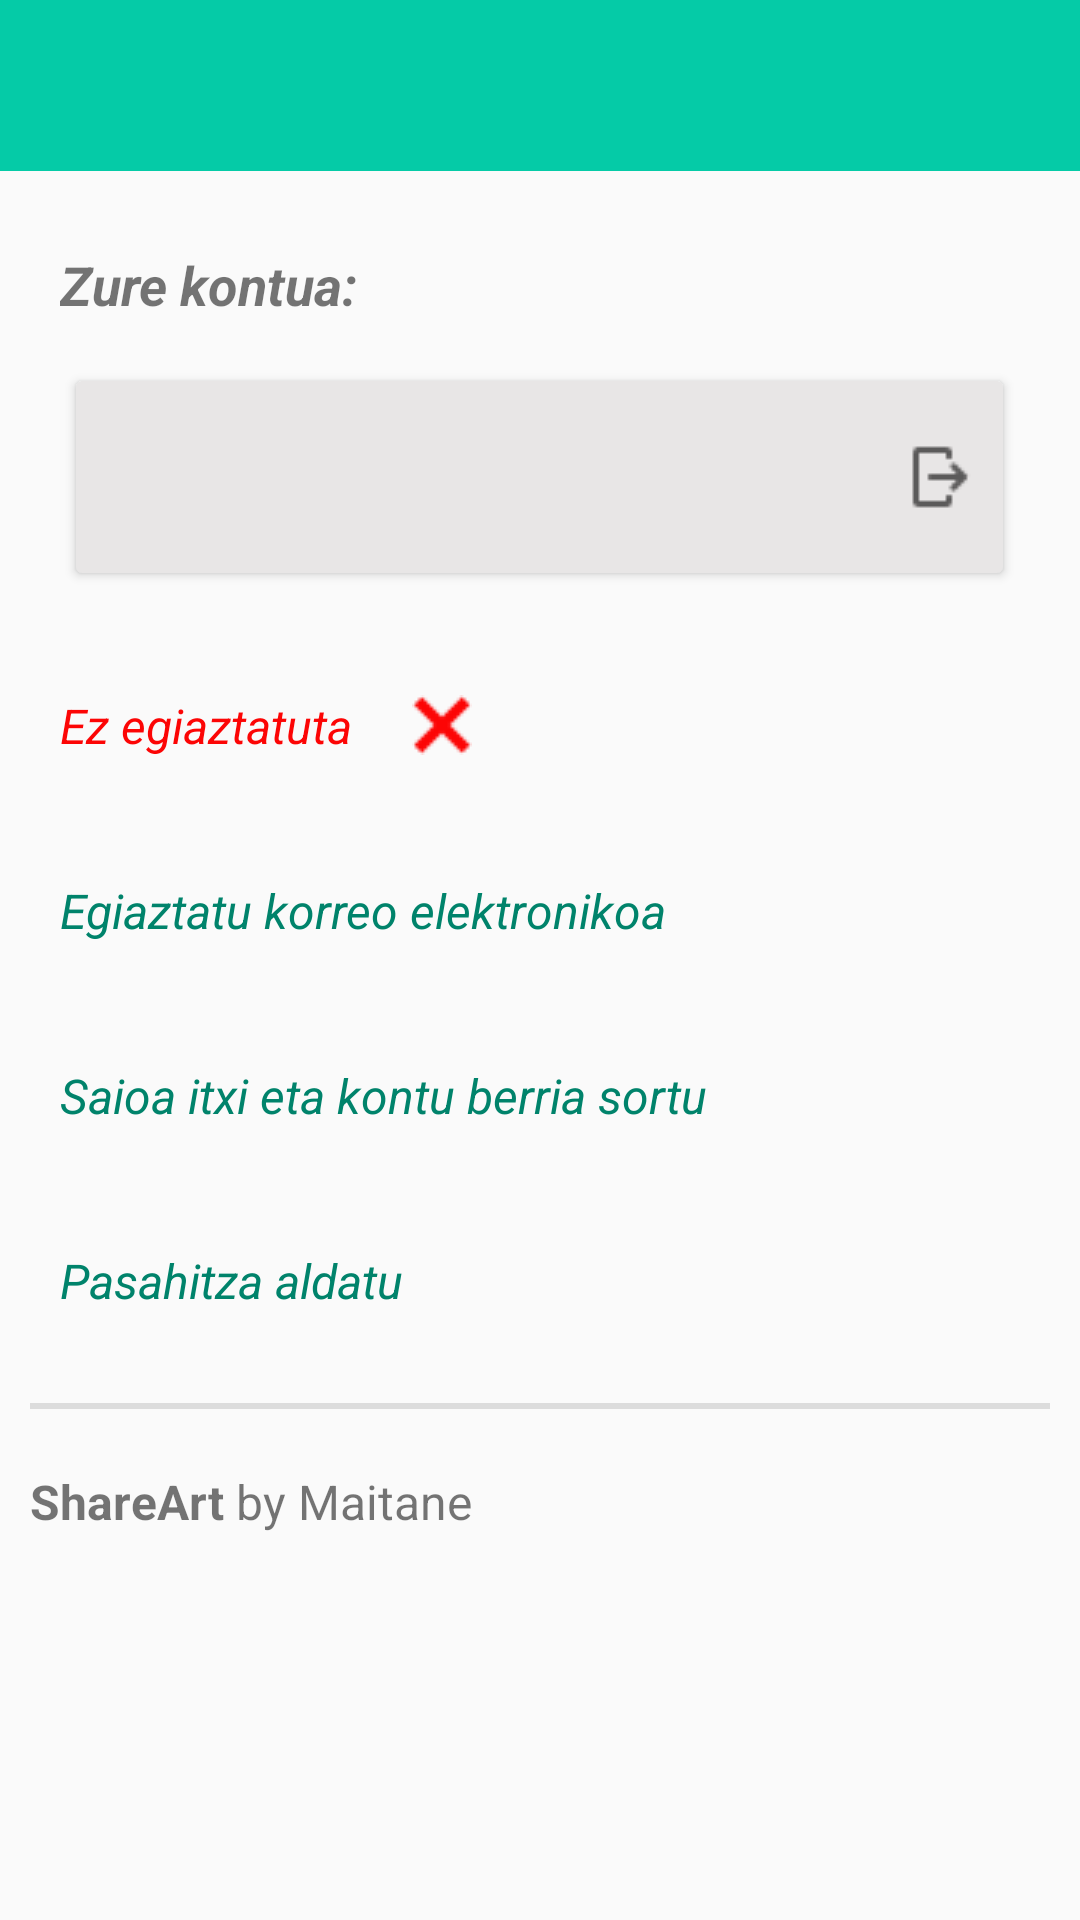

Icons on this 1080*1920 Android screen, each with its box as (x1=x1, y1=y1, x2=x2, y2=y2):
itxi saioa ikonoa: (x1=912, y1=446, x2=968, y2=508)
